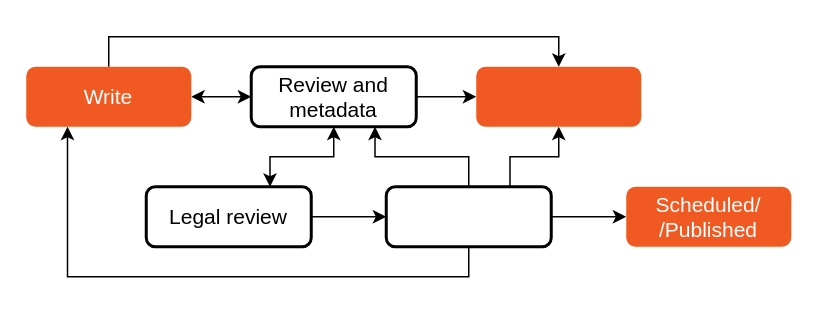
The diagram is 816 pixels wide and 315 high, and some of its shapes have lost their labels. Each missing label, with the centre of its shape:
"Archived" belongs at point (558, 96).
"Ready" belongs at point (468, 216).
